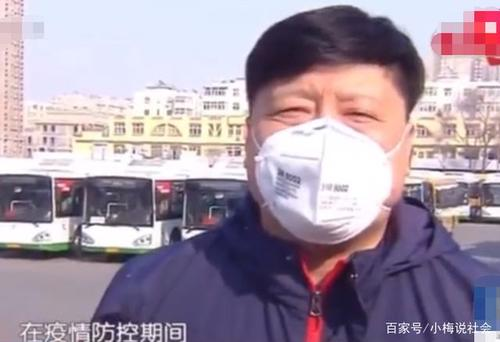Mask: (243, 61, 413, 249)
